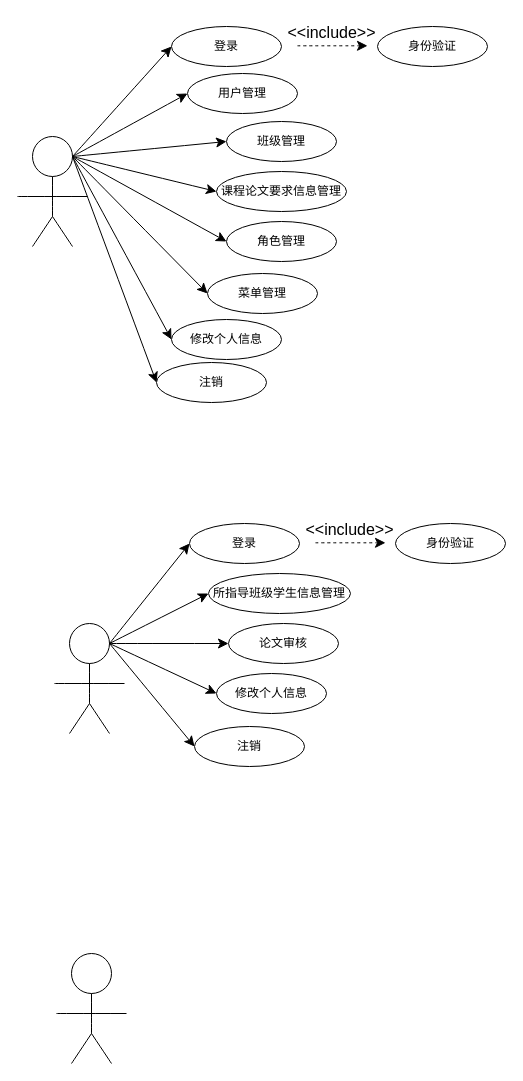
The diagram is 523 pixels wide and 1081 high, and some of its shapes have lost their labels. The box of each missing label's shape, as (x1, y1, x2, y2) in pixels:
学生: (70, 952, 112, 994)
教师: (68, 622, 110, 664)
管理员: (32, 136, 72, 176)
